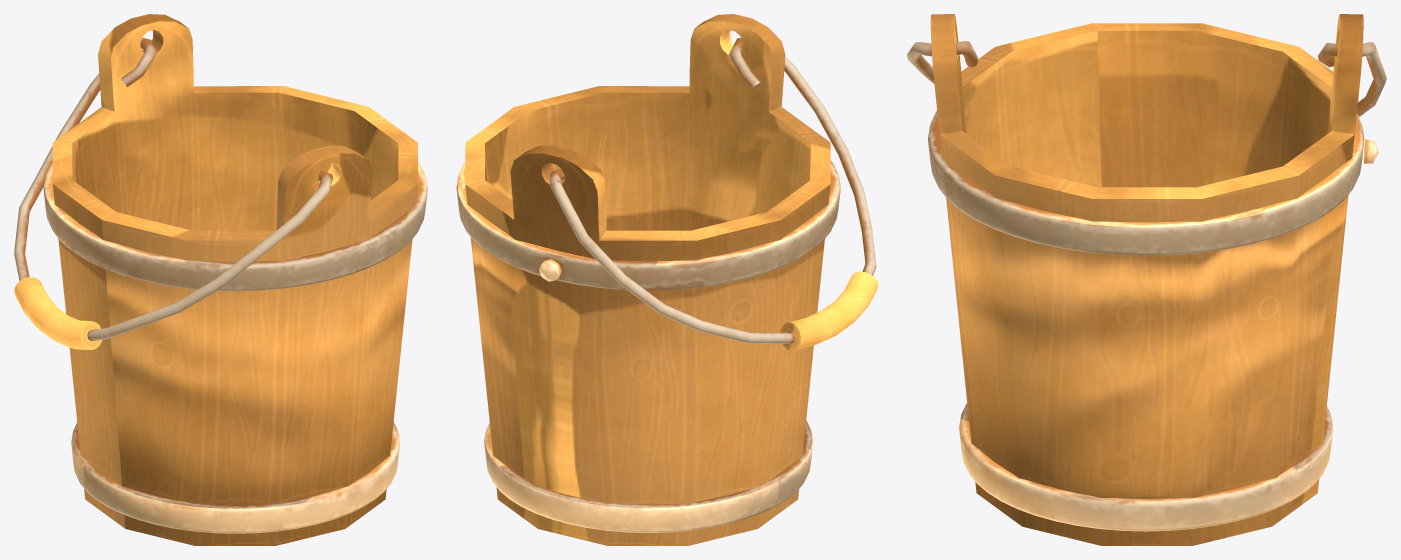
Rendered from SM_Bucket.fbx.
3 renders of one model, left to right at view 1: azimuth 30°, elevation 25°; view 2: azimuth 150°, elevation 25°; view 3: azimuth 270°, elevation 25°, orthographic. The views are drawn at different scales.
Parts seen in each view (by area): view 1: SM_Bucket_LOD0; view 2: SM_Bucket_LOD0; view 3: SM_Bucket_LOD0.
Part boxes in pixels (x1=…): SM_Bucket_LOD0: x1=14, y1=14, x2=427, y2=545; SM_Bucket_LOD0: x1=456, y1=14, x2=878, y2=545; SM_Bucket_LOD0: x1=907, y1=14, x2=1386, y2=545.
Size of the model in its own units: 29.83 by 30 by 31.11.
